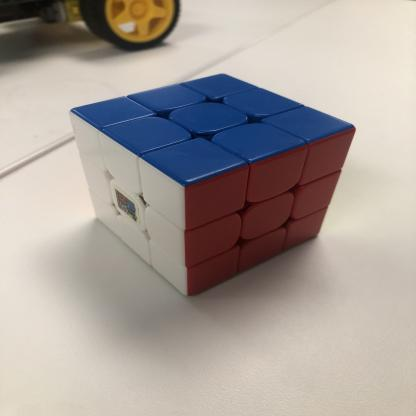SolvedCube: (60, 61, 367, 305)
